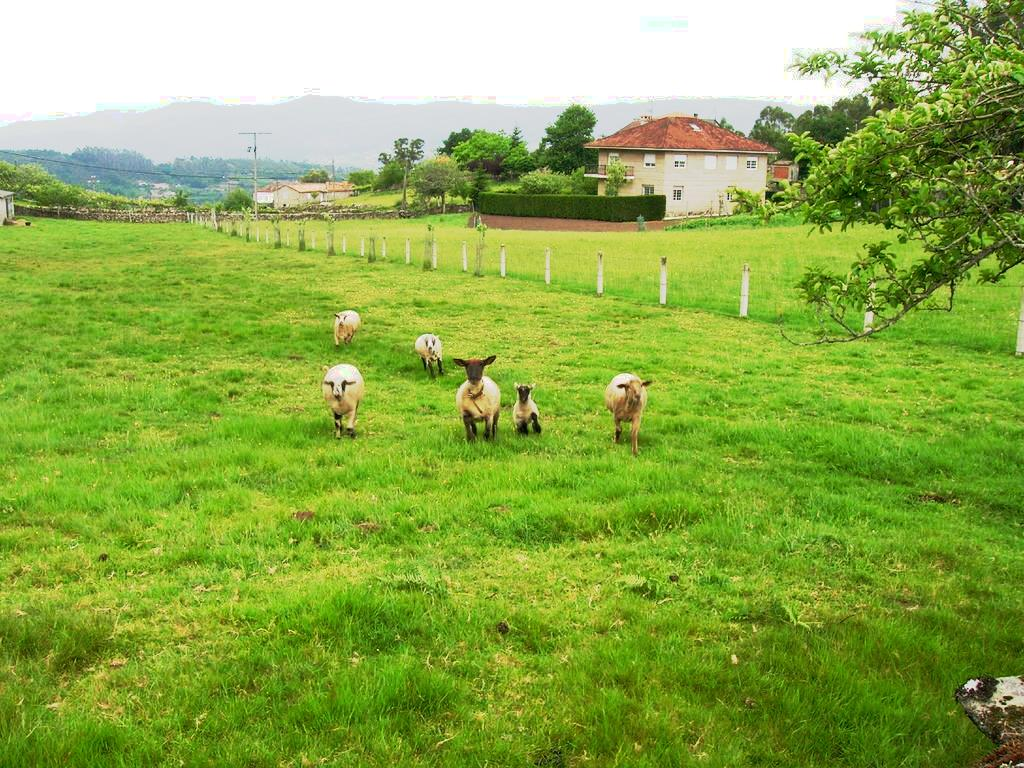Sheep: (602, 373, 650, 450), (457, 358, 502, 440), (322, 362, 362, 444), (412, 330, 446, 374), (332, 312, 362, 346), (516, 384, 536, 431)
